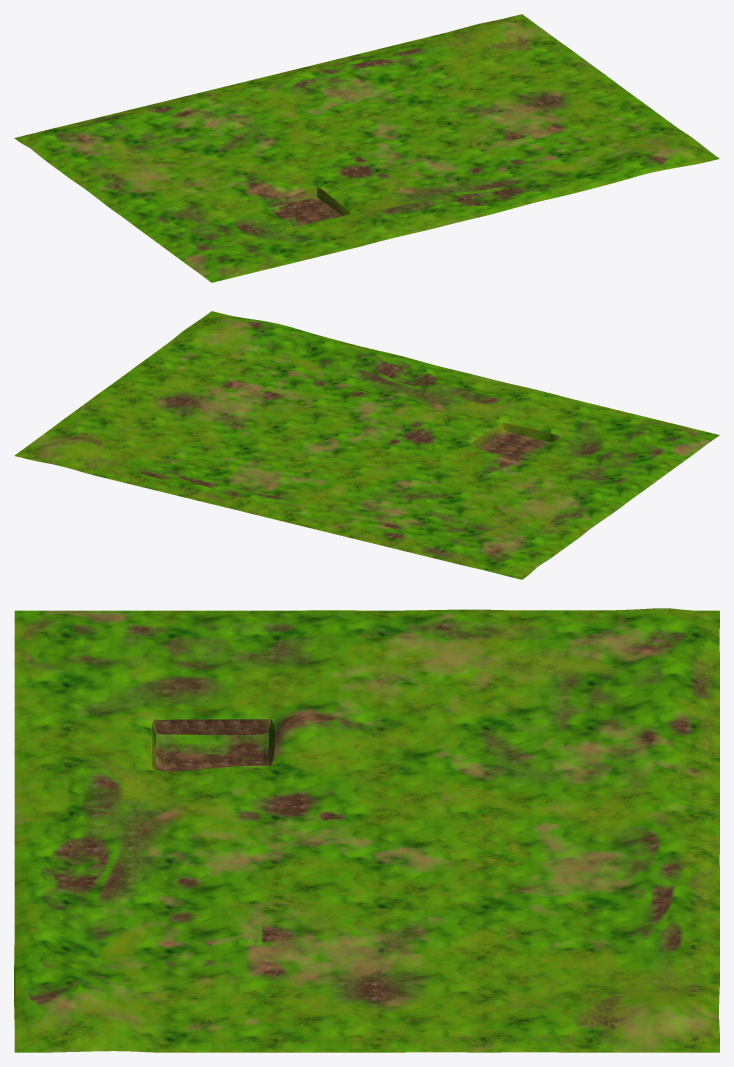
Rendered from Landscape_mod.fbx.
The picture shows the model from 3 angles, top to bottom: view 1: azimuth 30°, elevation 25°; view 2: azimuth 150°, elevation 25°; view 3: azimuth 270°, elevation 25°; orthographic projection. The views are drawn at different scales.
Parts seen in each view (by area): view 1: Landscape_low; view 2: Landscape_low; view 3: Landscape_low.
Part boxes in pixels (x1,y1,x2,y2): Landscape_low: (14, 14, 719, 282); Landscape_low: (14, 311, 719, 579); Landscape_low: (14, 608, 719, 1052).
Bounding box in the file's own units: 5556 × 210 × 3749.
Materials: 1 (1 with a texture image).
